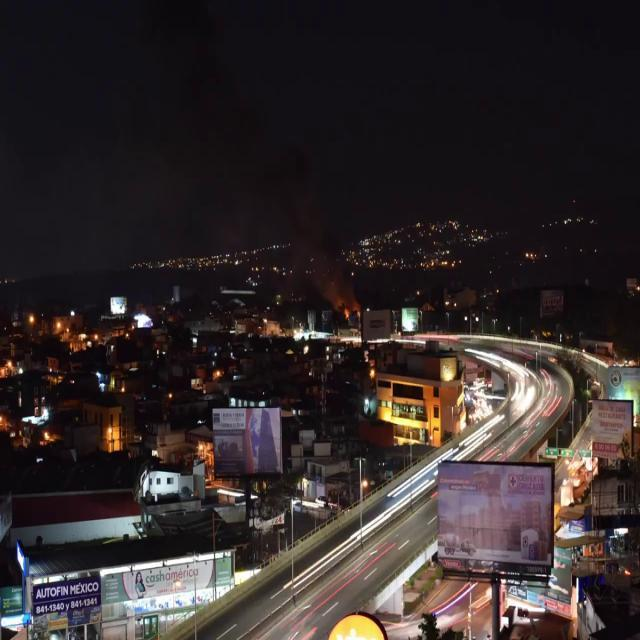Fire: (344, 306, 348, 321)
Smoke: (279, 183, 366, 310)
